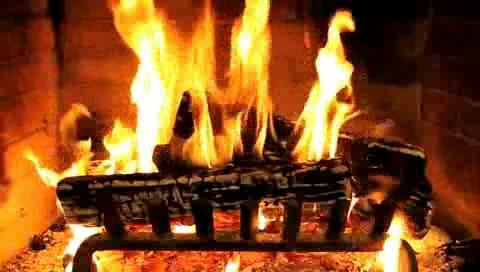fire: (16, 0, 480, 188)
